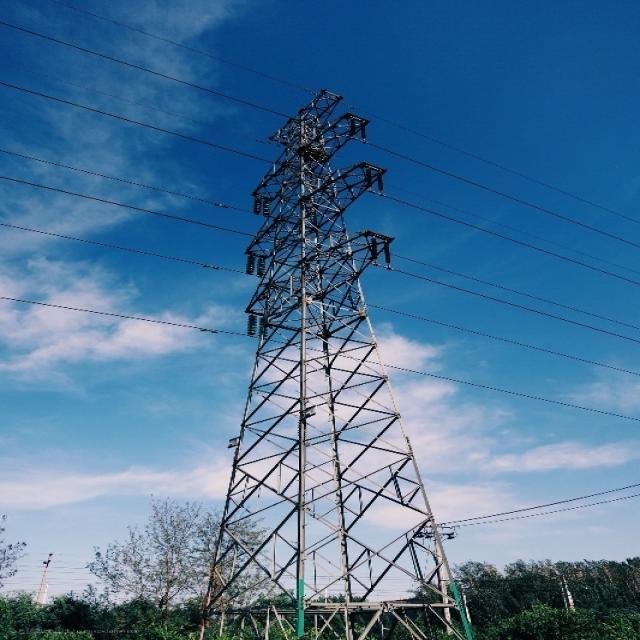non-critical vegetation: (215, 88, 472, 631)
